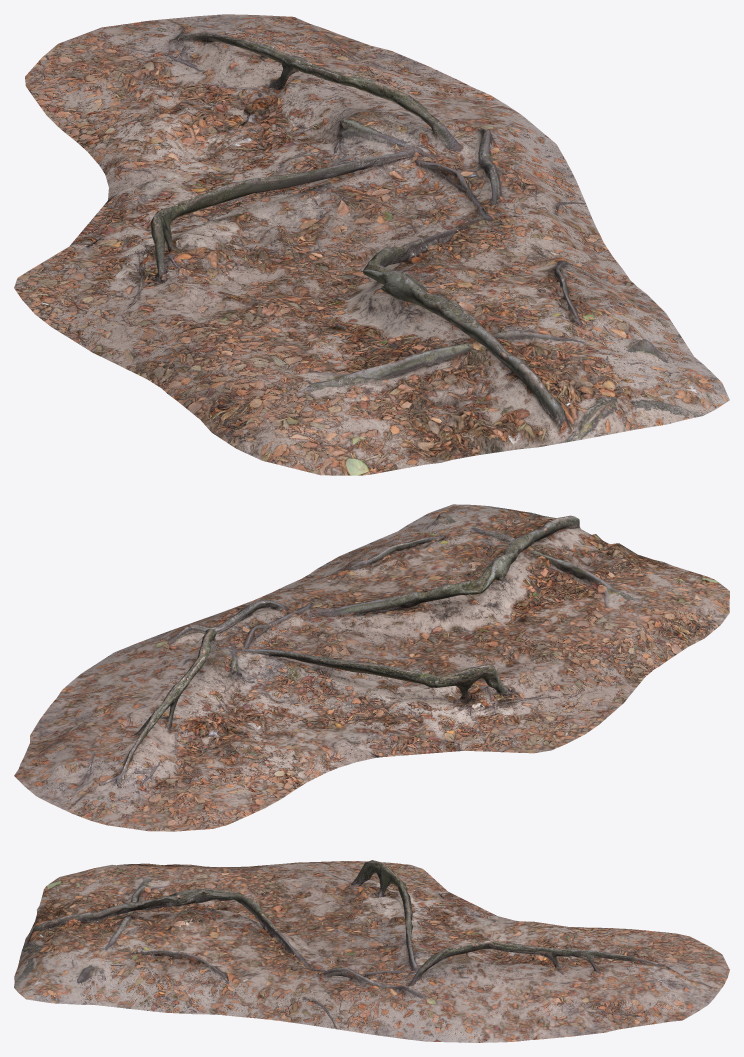
Rendered from sm_Roots_03_02.fbx.
The picture shows the model from 3 angles, top to bottom: view 1: azimuth 30°, elevation 25°; view 2: azimuth 150°, elevation 25°; view 3: azimuth 270°, elevation 25°; orthographic projection. The views are drawn at different scales.
Visible parts, largest first — view 1: sm_Roots_03_02_LOD0; view 2: sm_Roots_03_02_LOD0; view 3: sm_Roots_03_02_LOD0.
Boxes of the visible parts, left/top/right/bottom form: sm_Roots_03_02_LOD0: left=14, top=14, right=729, bottom=475; sm_Roots_03_02_LOD0: left=14, top=504, right=729, bottom=831; sm_Roots_03_02_LOD0: left=14, top=860, right=729, bottom=1042.
Bounding box in the file's own units: 180 × 300 × 23.21.
